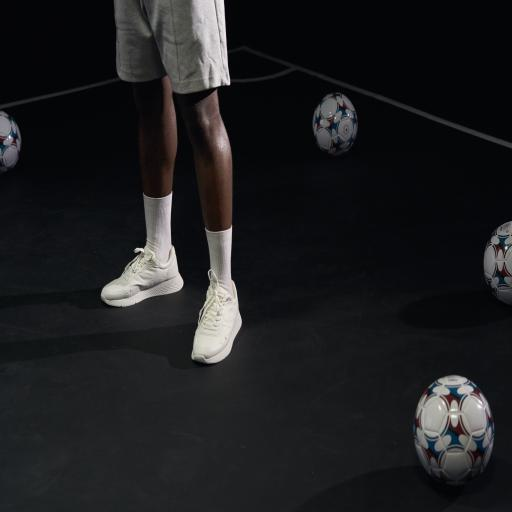shoe: (101, 246, 183, 306), (192, 270, 241, 363)
